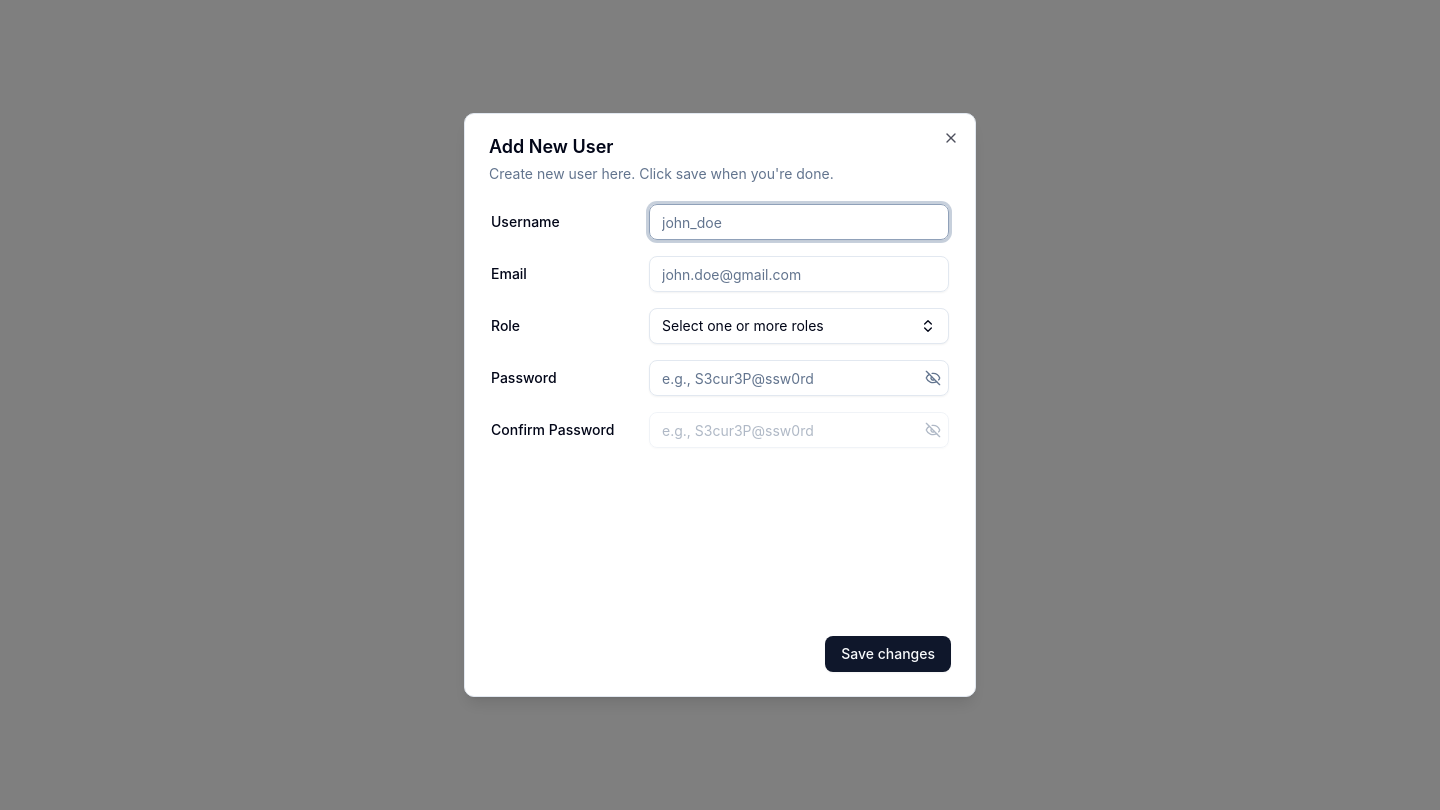
UsersActionDialog › add user › loads role options from the database role catalog
What coordinates should you click on to do the following:
click the dropdown labelled "Select one or more roles"
I would click on:
 (799, 326)
Its box is [649,308,949,344].
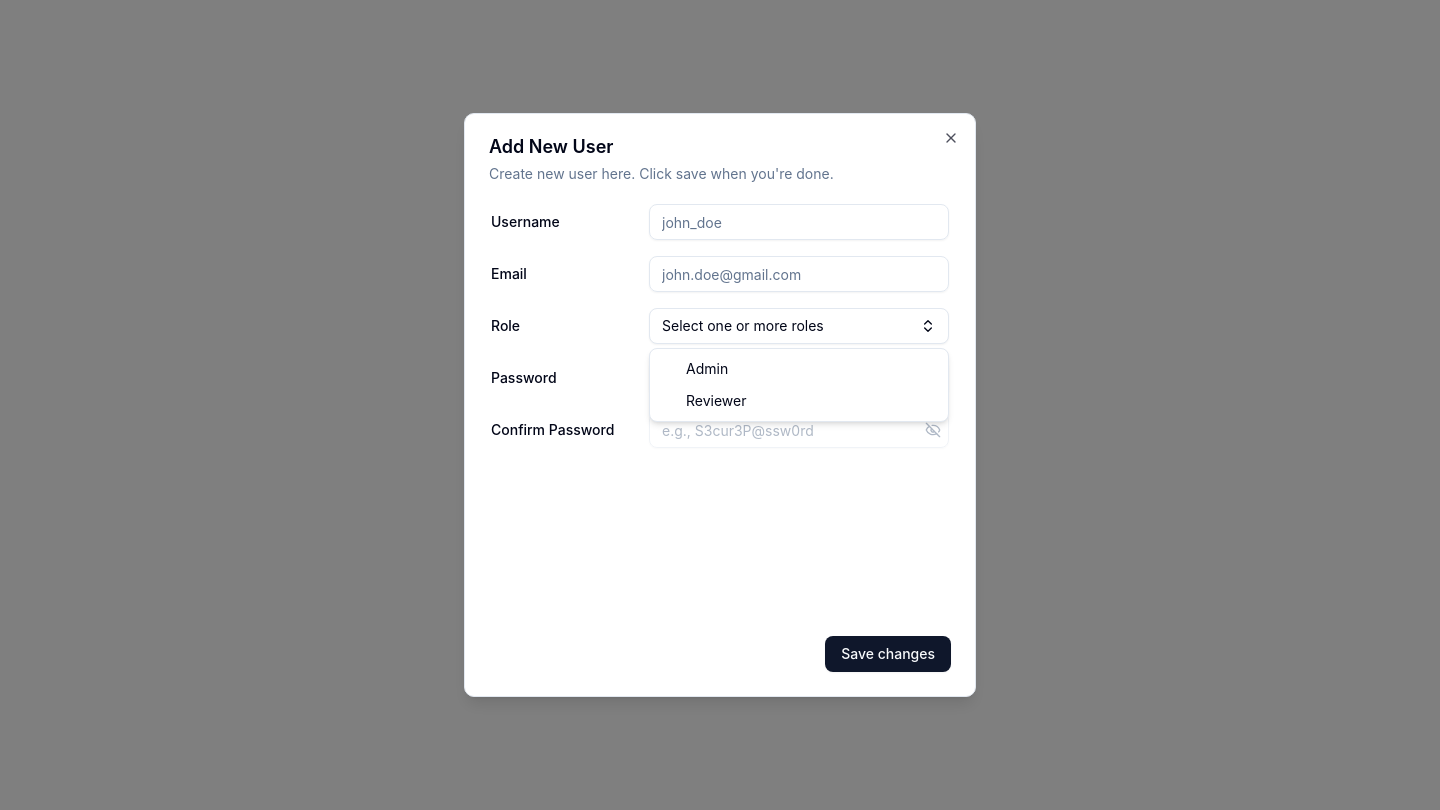
expect the menu item "Reviewer" is shown: met, box [686,392,746,409]
